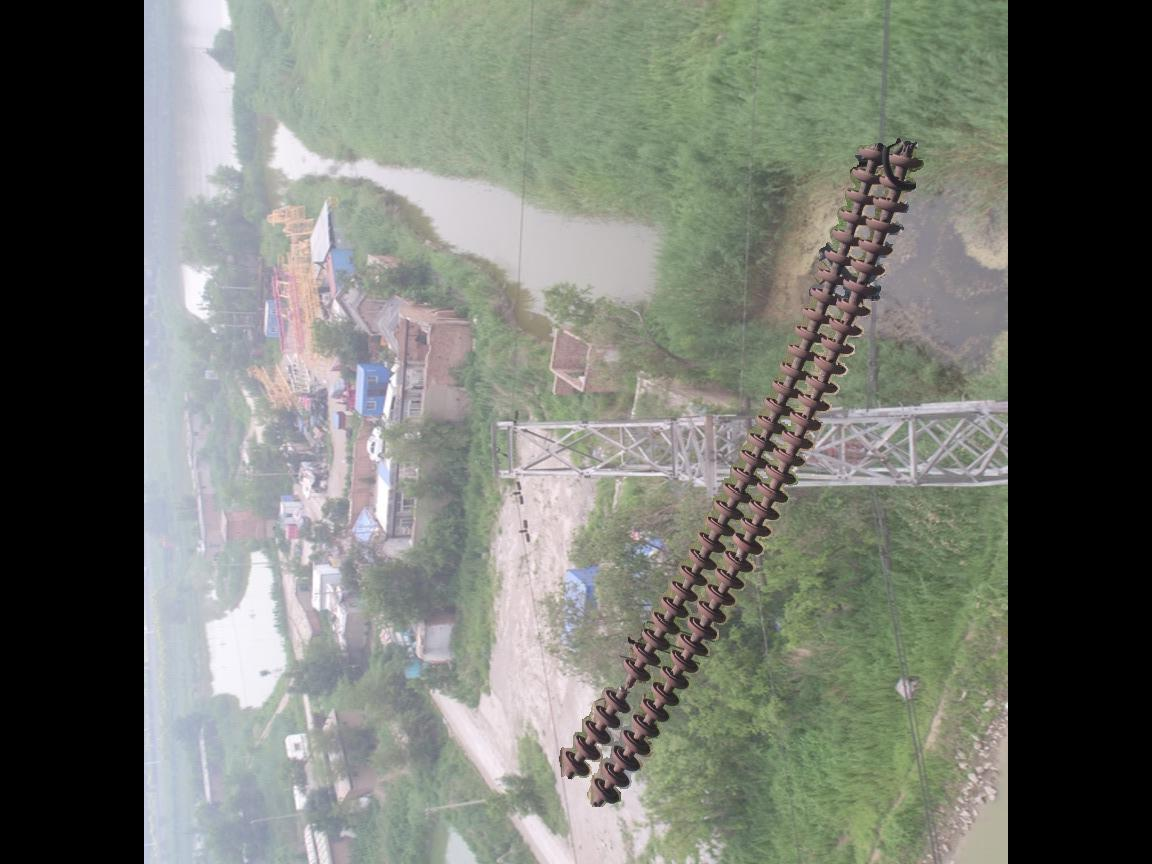insulator: (555, 136, 929, 812)
insulator_stringdrop: (599, 656, 653, 718)
